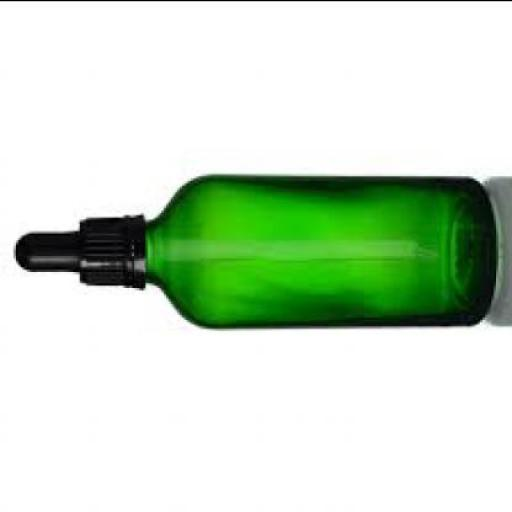glass: (146, 180, 495, 330)
plastic: (12, 216, 146, 291)
